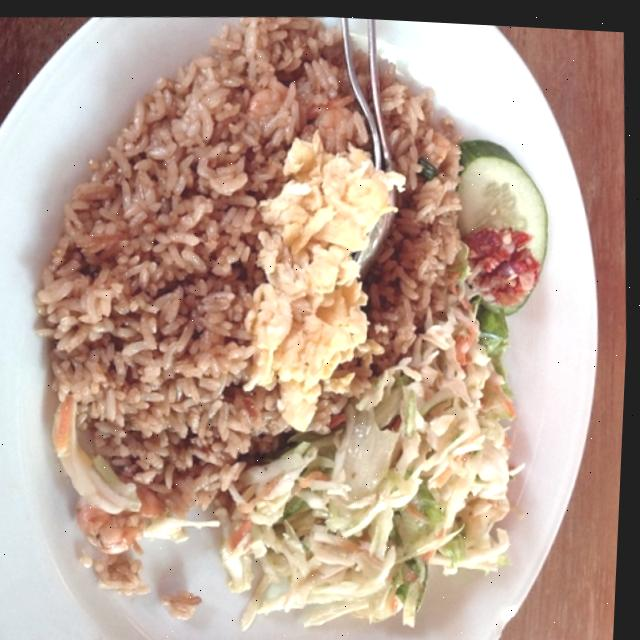米饭主食: (0, 0, 618, 640)
